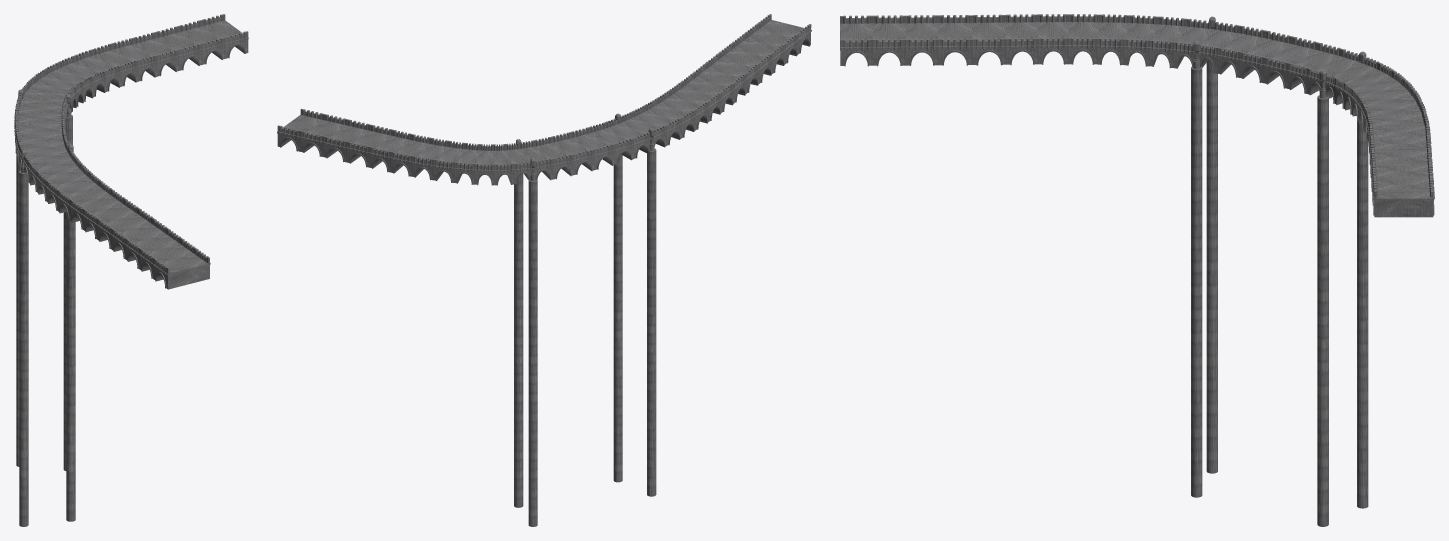
File: Bridge.obj
The picture shows the model from 3 angles, left to right: view 1: azimuth 30°, elevation 25°; view 2: azimuth 150°, elevation 25°; view 3: azimuth 270°, elevation 25°; orthographic projection. The views are drawn at different scales.
Visible parts, largest first — view 1: 平面.025_平面.004; view 2: 平面.025_平面.004; view 3: 平面.025_平面.004.
Part boxes in pixels (left/top/right/bottom): 平面.025_平面.004: left=14, top=14, right=248, bottom=526; 平面.025_平面.004: left=277, top=14, right=811, bottom=526; 平面.025_平面.004: left=840, top=14, right=1434, bottom=526.
Bounding box in the file's own units: 196 × 229 × 273.
